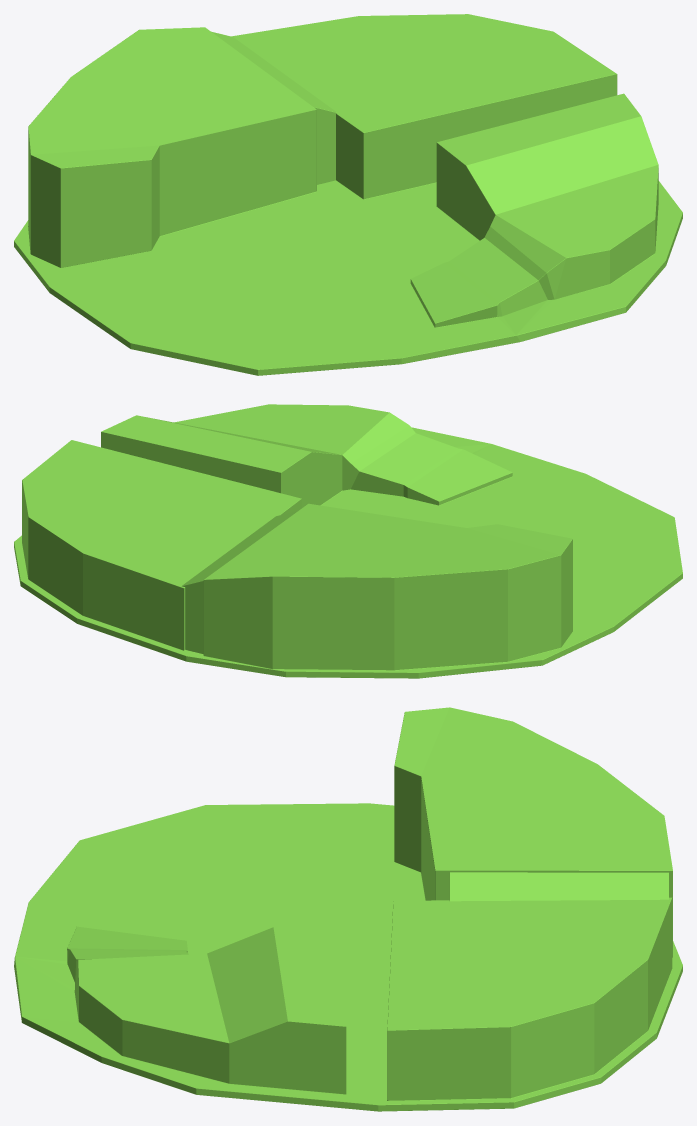
The model's file is map2.fbx.
The picture shows the model from 3 angles, top to bottom: view 1: azimuth 30°, elevation 25°; view 2: azimuth 150°, elevation 25°; view 3: azimuth 270°, elevation 25°; orthographic projection. The views are drawn at different scales.
Parts seen in each view (by area): view 1: Plane; view 2: Plane; view 3: Plane.
Part boxes in pixels (left/top/right/bottom): Plane: left=14, top=14, right=682, bottom=375; Plane: left=14, top=404, right=682, bottom=678; Plane: left=14, top=707, right=682, bottom=1111.
Size of the model in its own units: 3409 by 592 by 3194.
